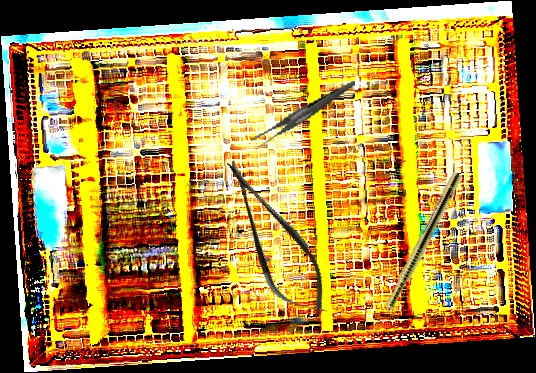Dressing Forceps: (243, 80, 365, 151)
Handpiece: (367, 170, 464, 340)
Micro Scissor: (208, 147, 342, 331)
